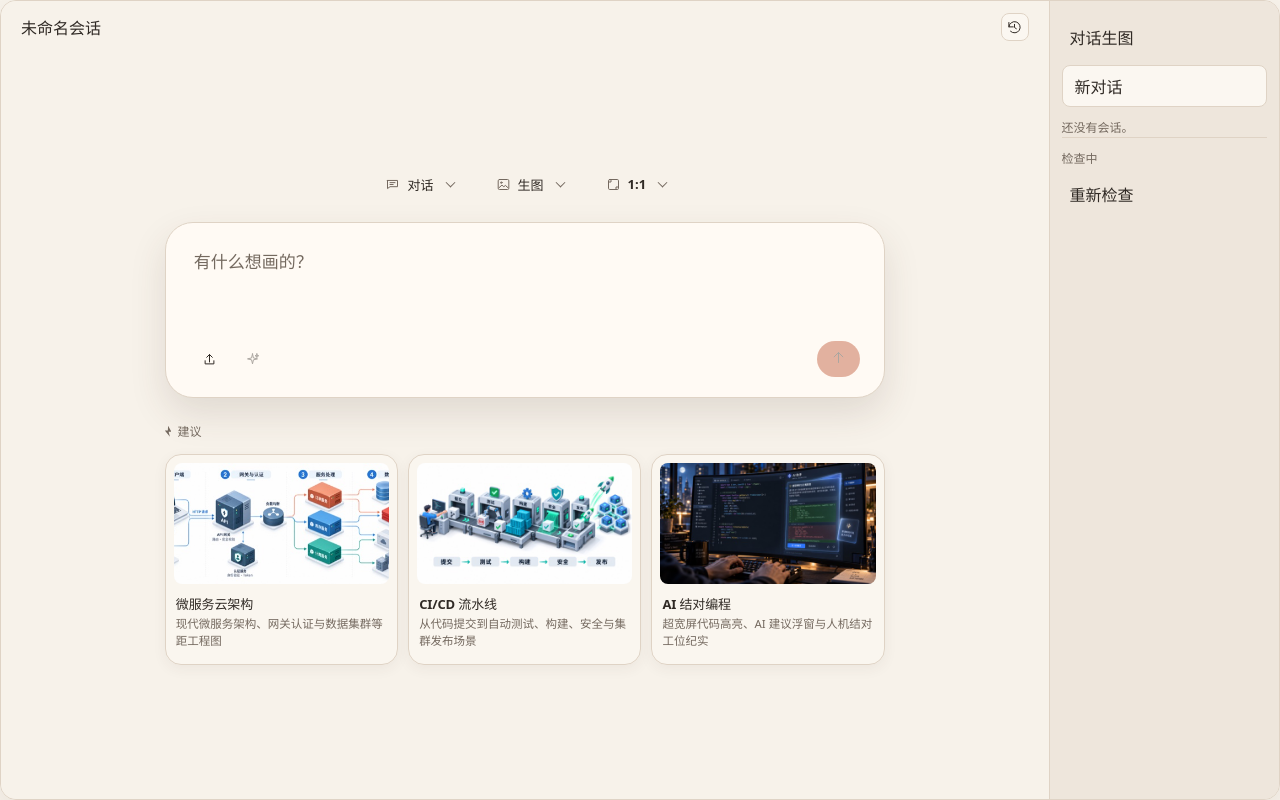
Scenario: ImagesPage › disables submit when the default chat model is missing
Step 1. Click the button with aria-label "新建会话" → x=1164, y=86, box [1062,65,1267,107]
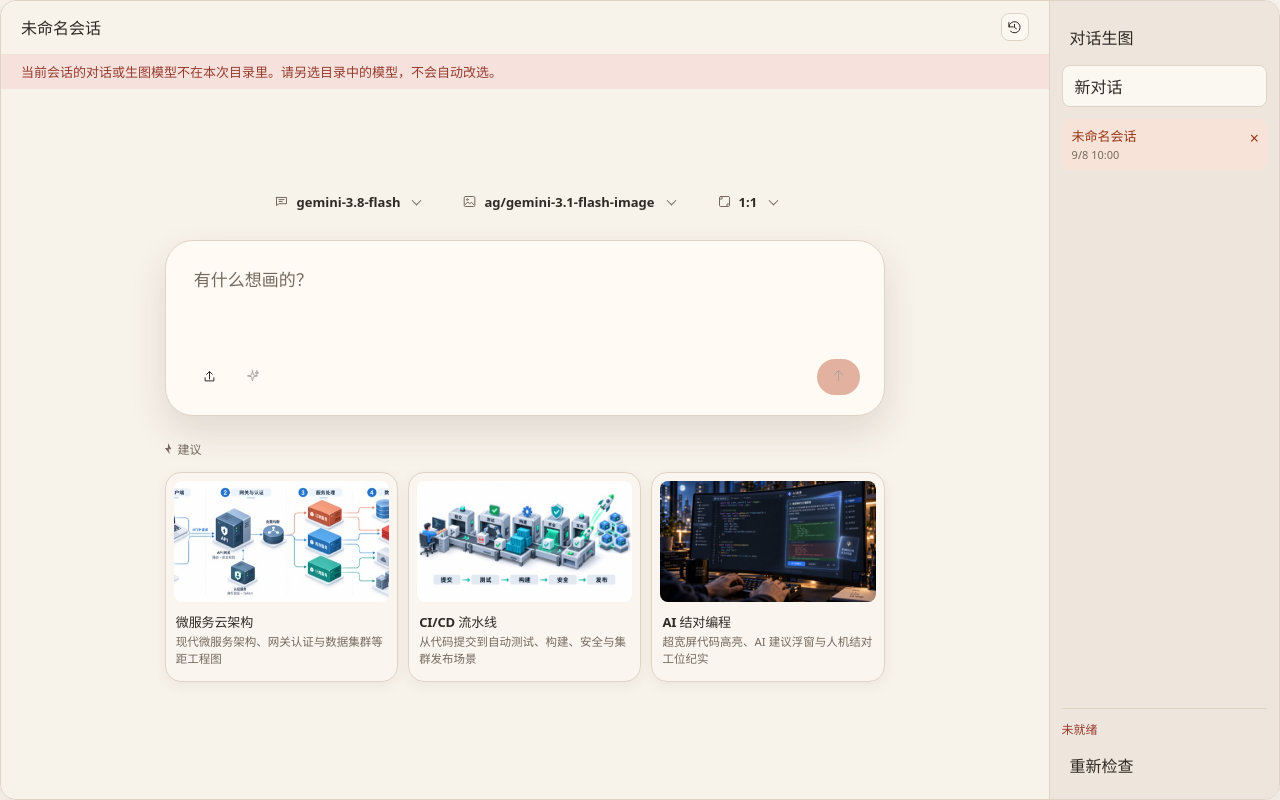
Expected: the button named "发送" is disabled, [817,359,860,395]
Expected: the text "当前会话的对话或生图模型不在本次目录里。请另选目录中的模型，不会自动改选。" is shown, [21,63,502,81]
